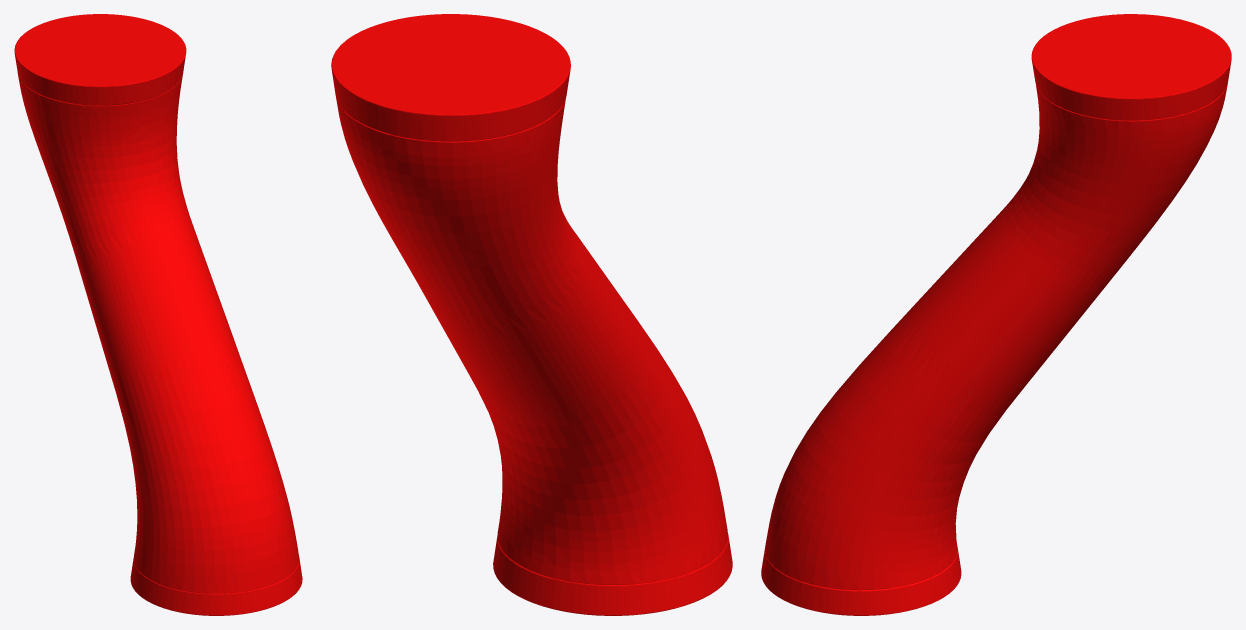
The picture shows the model from 3 angles, left to right: view 1: azimuth 30°, elevation 25°; view 2: azimuth 150°, elevation 25°; view 3: azimuth 270°, elevation 25°; orthographic projection. The views are drawn at different scales.
Parts seen in each view (by area): view 1: A0509_4_0; view 2: A0509_4_0; view 3: A0509_4_0.
Part boxes in pixels (<box>): A0509_4_0: <box>14,14,302,615</box>; A0509_4_0: <box>331,14,732,615</box>; A0509_4_0: <box>761,14,1231,615</box>.
Size of the model in its own units: 90.39 by 212 by 258.
